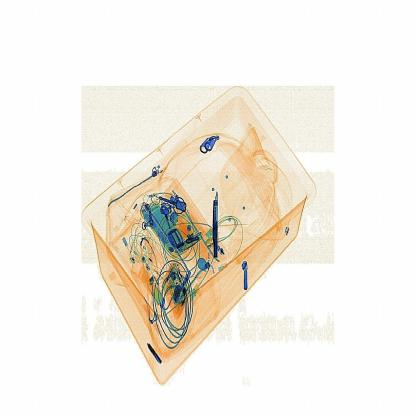pliers: (205, 182, 229, 266)
